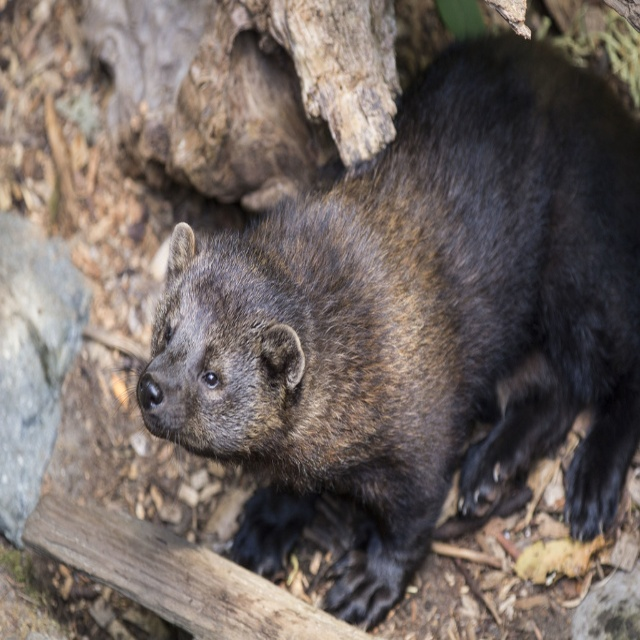Otter: (101, 31, 640, 634)
